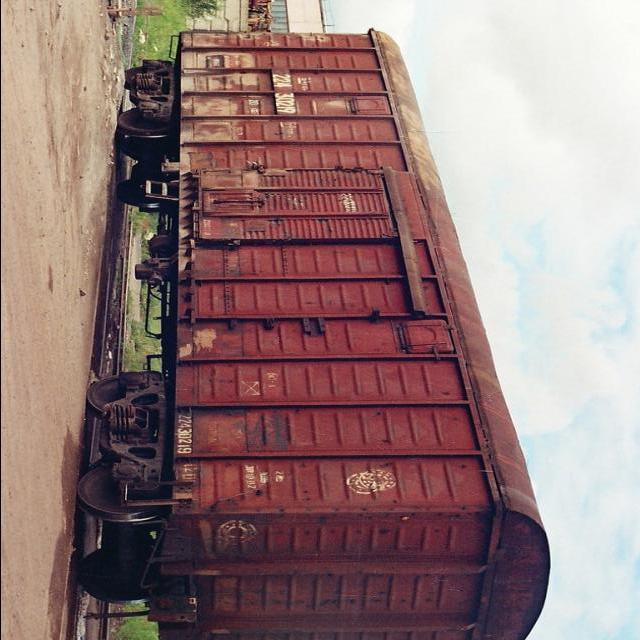wagon: (172, 410, 197, 458), (270, 72, 297, 115)
